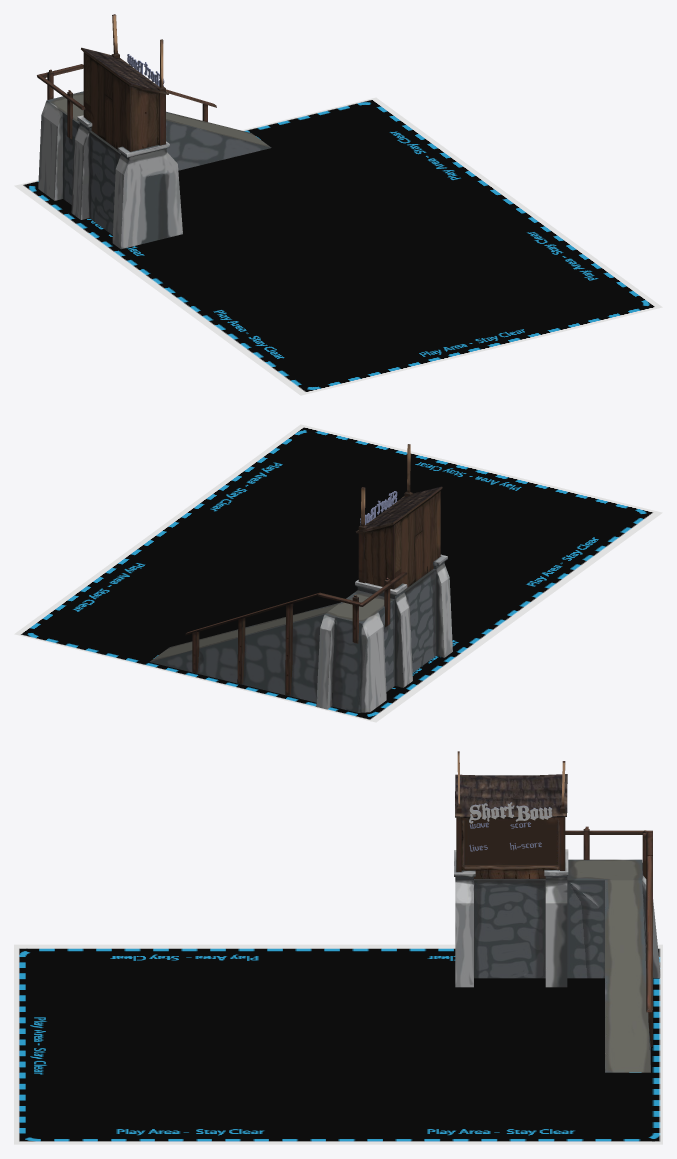
The model's file is shortbow-scoreboard.fbx.
3 views of the same model, one above another, from view 1: azimuth 30°, elevation 25°; view 2: azimuth 150°, elevation 25°; view 3: azimuth 270°, elevation 25° (orthographic). The views are drawn at different scales.
Visible parts, largest first — view 1: Cube.001; view 2: Cube.001; view 3: Cube.001.
Boxes of the visible parts, <box> form: Cube.001: <box>14,14,662,395</box>; Cube.001: <box>14,424,662,722</box>; Cube.001: <box>14,751,662,1144</box>.
Size of the model in its own units: 2334 by 1222 by 3201.
Materials: 4 (2 with a texture image).
